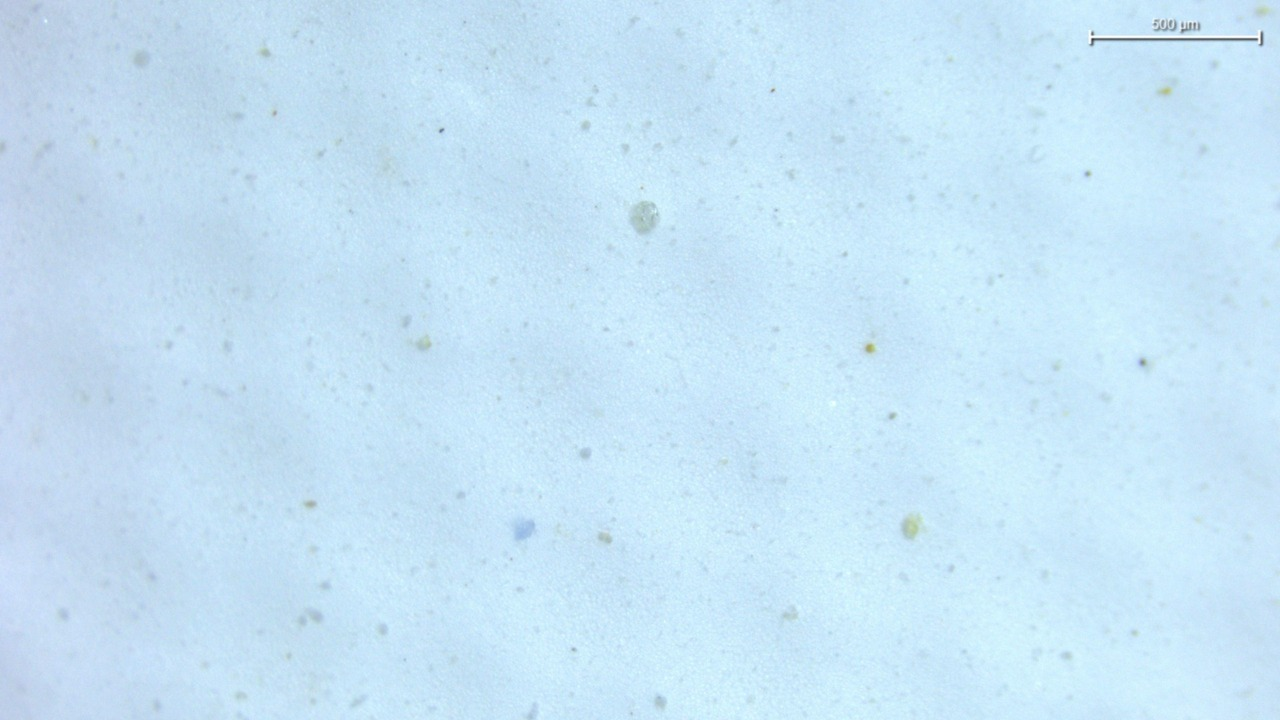microplastic_fragment: (630, 201, 660, 234)
